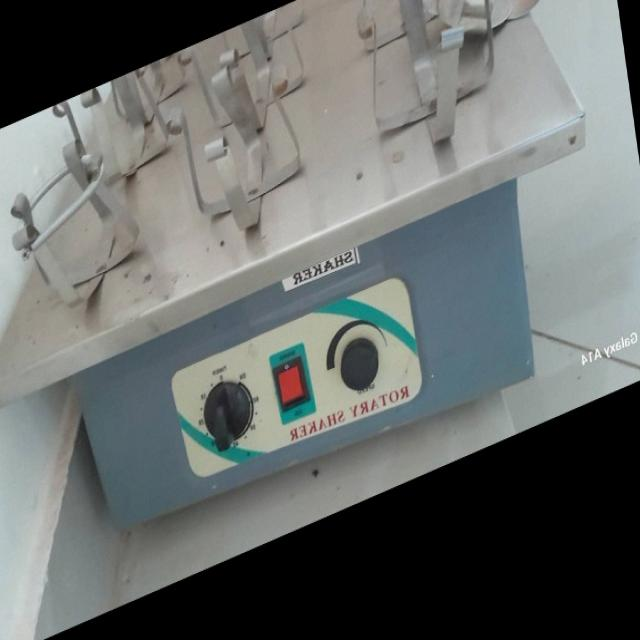Rotary Shaker: (0, 0, 621, 612)
